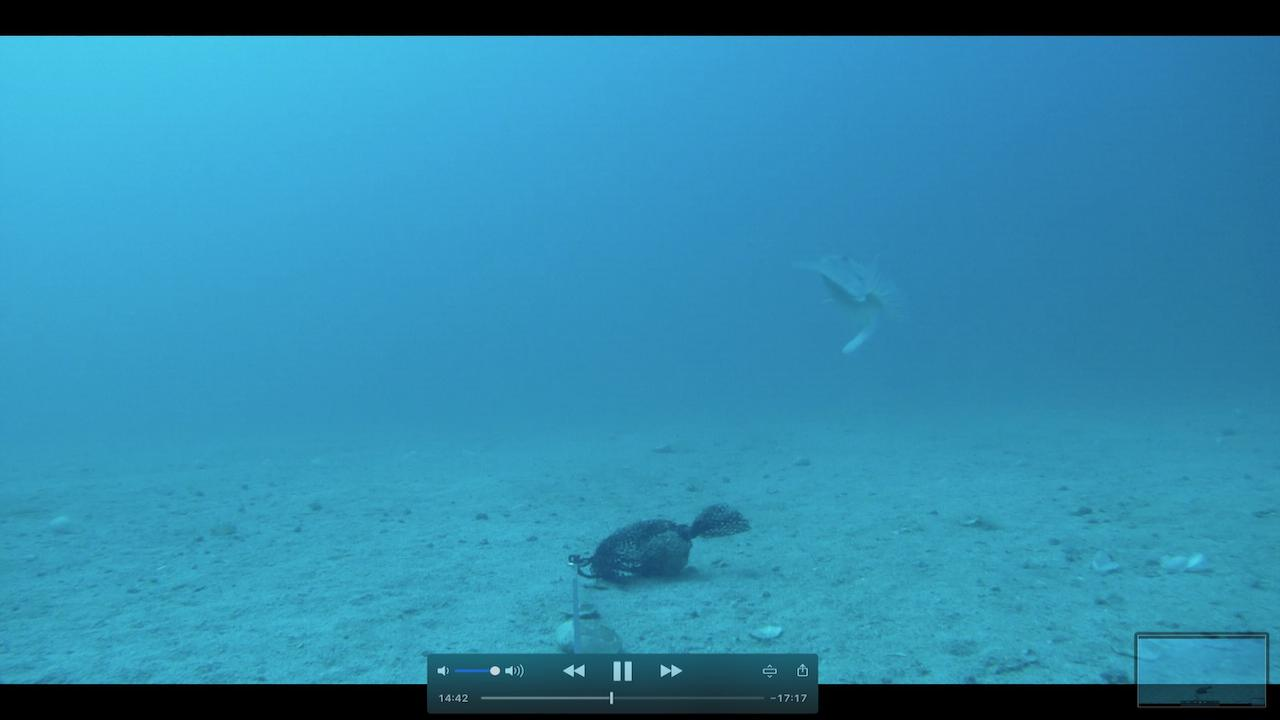balistes: (795, 242, 910, 360)
